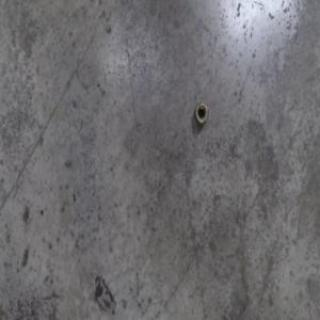Nuttrack_idkeyframe: (194, 100, 207, 124)
